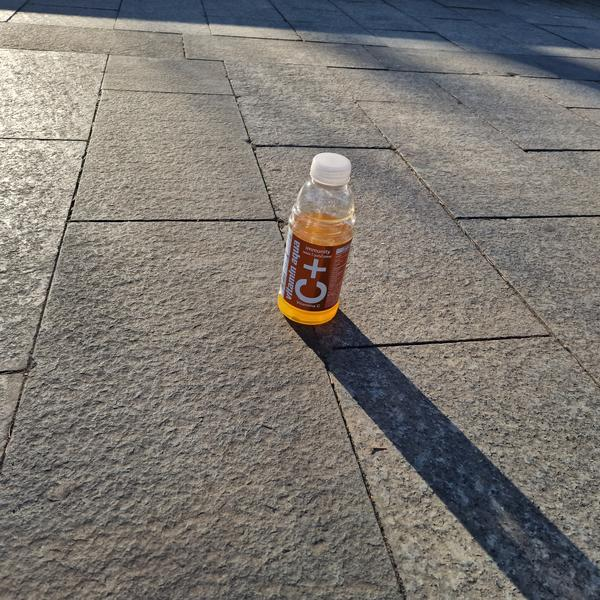plastic_bottle: (269, 145, 368, 331)
